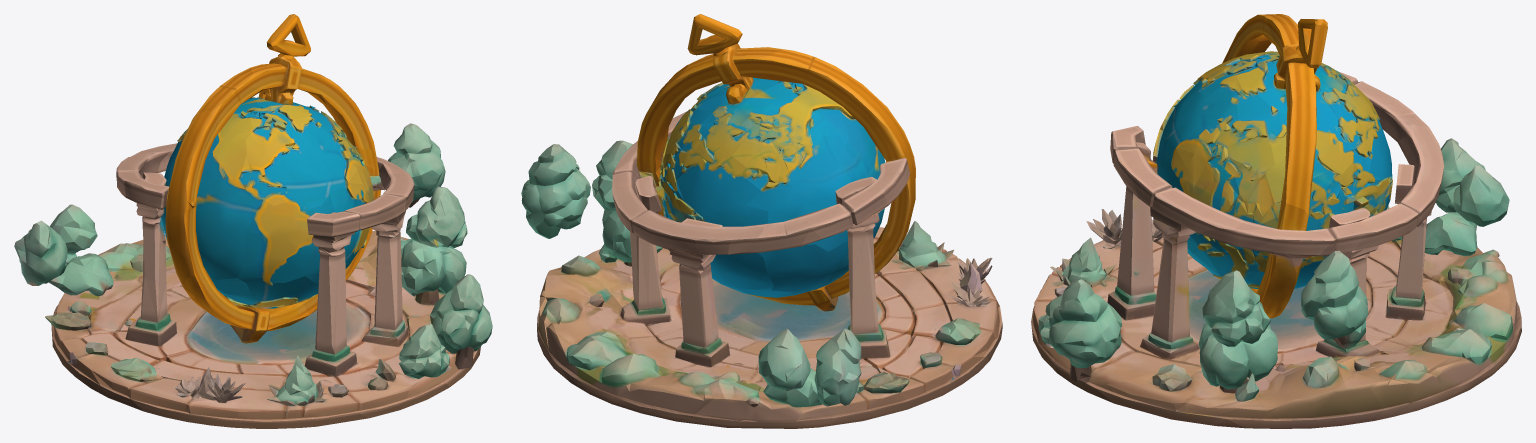
Rendered from geography-v01.glb.
3 views of the same model, side by side, from view 1: azimuth 30°, elevation 25°; view 2: azimuth 150°, elevation 25°; view 3: azimuth 270°, elevation 25° (orthographic). The views are drawn at different scales.
Visible parts, largest first — view 1: Geography_Structure_0; view 2: Geography_Structure_0; view 3: Geography_Structure_0.
Part boxes in pixels (left/top/right/bottom): Geography_Structure_0: left=14, top=14, right=492, bottom=428; Geography_Structure_0: left=521, top=14, right=1002, bottom=428; Geography_Structure_0: left=1031, top=14, right=1521, bottom=428.
Bounding box in the file's own units: 1.9 × 1.39 × 1.86.
1 material, 1 textured.
